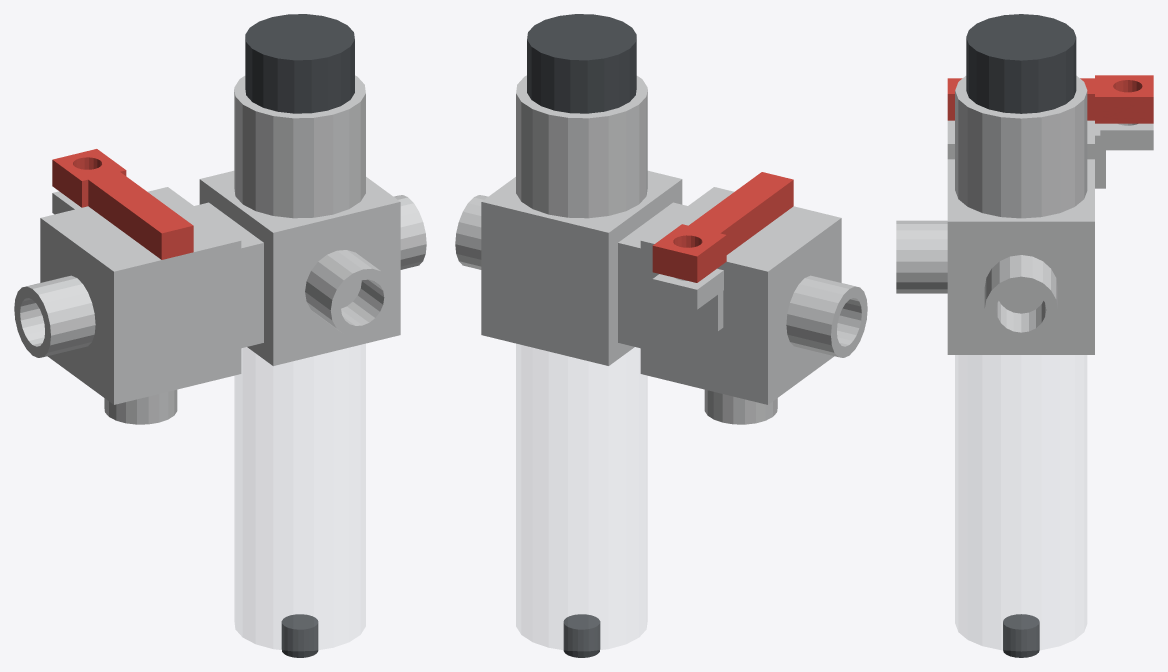
Rendered from frl.glb.
3 views of the same model, side by side, from view 1: azimuth 30°, elevation 25°; view 2: azimuth 150°, elevation 25°; view 3: azimuth 270°, elevation 25° (orthographic).
Visible parts, largest first — view 1: body, knob, handle, port-g, port-1, port-3, port-2; view 2: body, knob, handle, port-1, port-3, port-2; view 3: body, knob, port-2, port-g, handle.
Part boxes in pixels (x1,y1,x2,y2): body: (40,75,400,657); knob: (245,14,354,113); handle: (52,149,193,259); port-g: (305,250,394,336); port-1: (14,275,95,357); port-3: (104,389,177,424); port-2: (394,195,426,269); body: (481,75,841,657); knob: (527,14,636,113); handle: (652,172,793,282); port-1: (786,275,867,357); port-3: (704,389,777,424); port-2: (455,195,487,269); body: (947,75,1153,657); knob: (966,14,1076,113); port-2: (984,255,1057,343); port-g: (896,220,947,293); handle: (947,75,1153,123).
Size of what is drawn, in the model's own units: 0.118 by 0.184 by 0.07.
